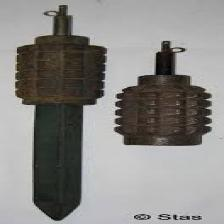POMZ2: (16, 0, 109, 224), (105, 38, 224, 166)
